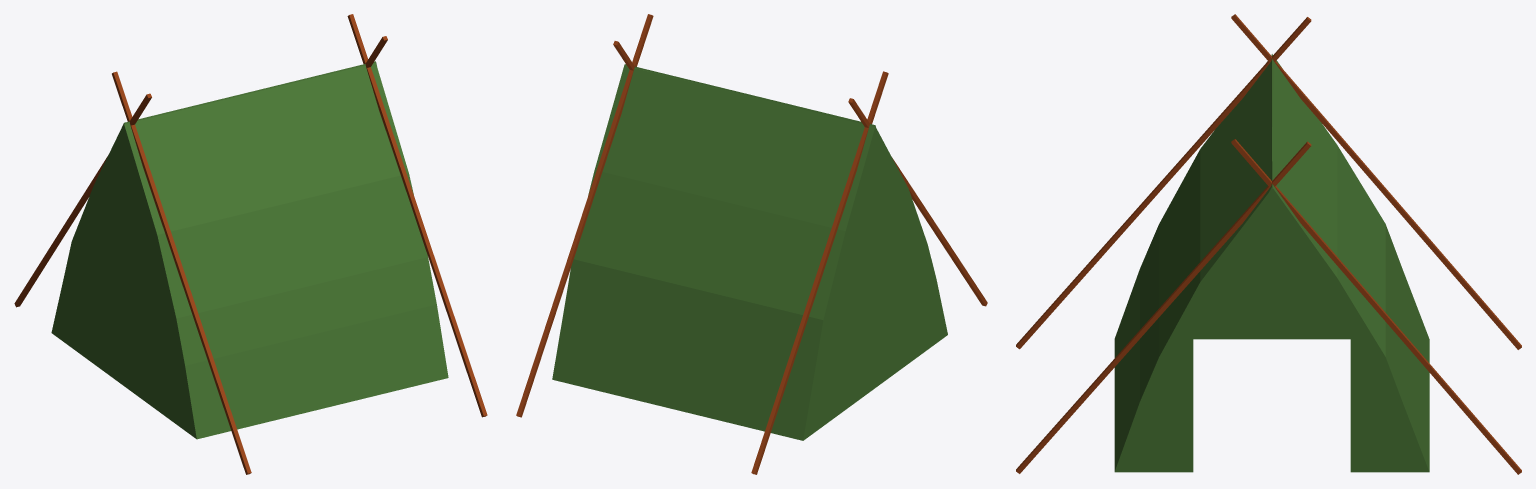
The model's file is camp.fbx.
3 views of the same model, side by side, from view 1: azimuth 30°, elevation 25°; view 2: azimuth 150°, elevation 25°; view 3: azimuth 270°, elevation 25° (orthographic). The views are drawn at different scales.
Parts seen in each view (by area): view 1: Cube, Cube.003, Cube.001, Cube.004; view 2: Cube, Cube.004, Cube.002, Cube.003; view 3: Cube, Cube.001, Cube.003, Cube.004, Cube.002.
Boxes of the visible parts, x1=… form: Cube: x1=51, y1=61, x2=448, y2=439; Cube.003: x1=112, y1=71, x2=251, y2=474; Cube.001: x1=347, y1=14, x2=487, y2=417; Cube.004: x1=14, y1=93, x2=151, y2=307; Cube: x1=552, y1=64, x2=947, y2=440; Cube.004: x1=751, y1=71, x2=888, y2=474; Cube.002: x1=516, y1=14, x2=653, y2=417; Cube.003: x1=848, y1=98, x2=987, y2=306; Cube: x1=1114, y1=54, x2=1429, y2=472; Cube.001: x1=1016, y1=141, x2=1311, y2=473; Cube.003: x1=1016, y1=17, x2=1311, y2=349; Cube.004: x1=1231, y1=14, x2=1521, y2=349; Cube.002: x1=1231, y1=139, x2=1521, y2=474.
Size of the model in its own units: 200 by 234 by 321.
